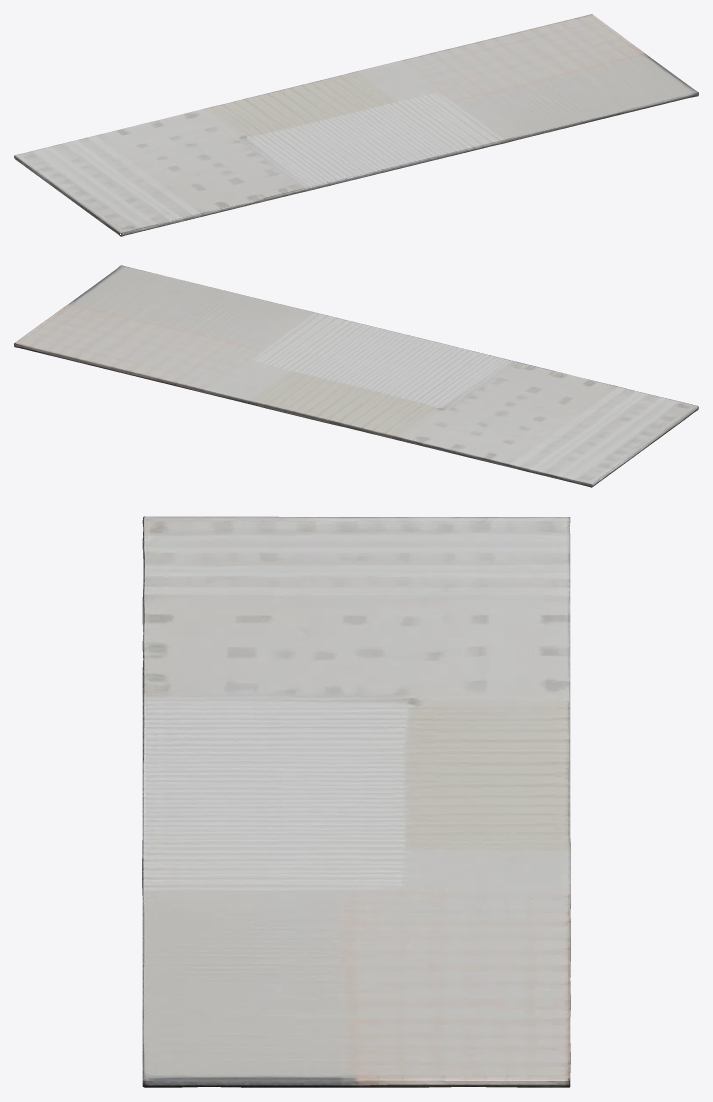
File: e046782a-7bda-4297-a0e6-0e7162c83ef1.glb
3 views of the same model, one above another, from view 1: azimuth 30°, elevation 25°; view 2: azimuth 150°, elevation 25°; view 3: azimuth 270°, elevation 25° (orthographic). The views are drawn at different scales.
Visible parts, largest first — view 1: world; view 2: world; view 3: world.
Boxes of the visible parts, left/top/right/bottom form: world: left=14, top=14, right=698, bottom=236; world: left=14, top=265, right=698, bottom=487; world: left=142, top=516, right=570, bottom=1087.
Bounding box in the file's own units: 1 × 0.00636 × 0.3215.
Materials: 1 (1 with a texture image).
